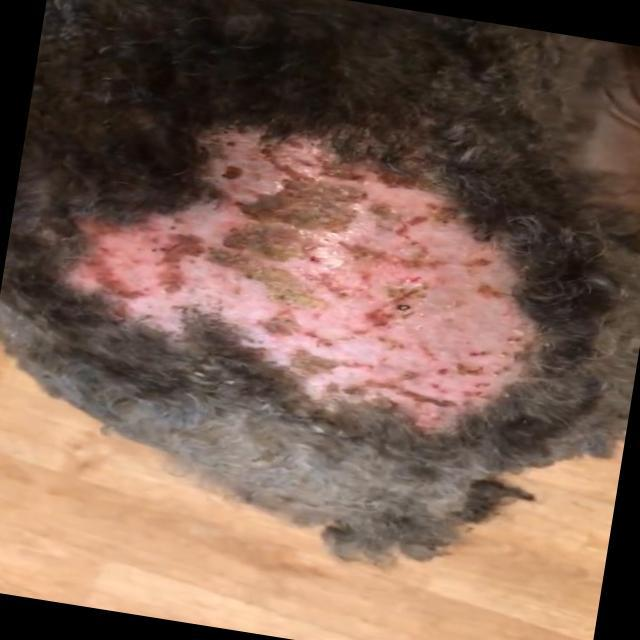allergic dermatitis: (62, 124, 538, 439)
